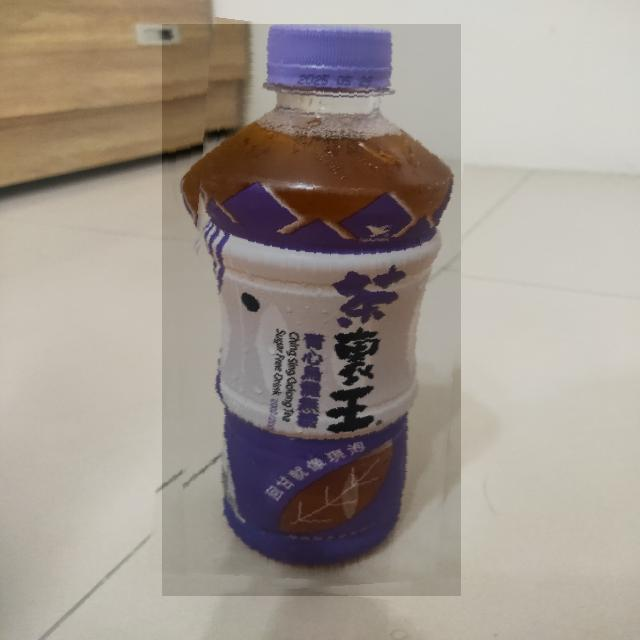ChaLiWong_TsingXinOolong: (162, 24, 461, 596)
